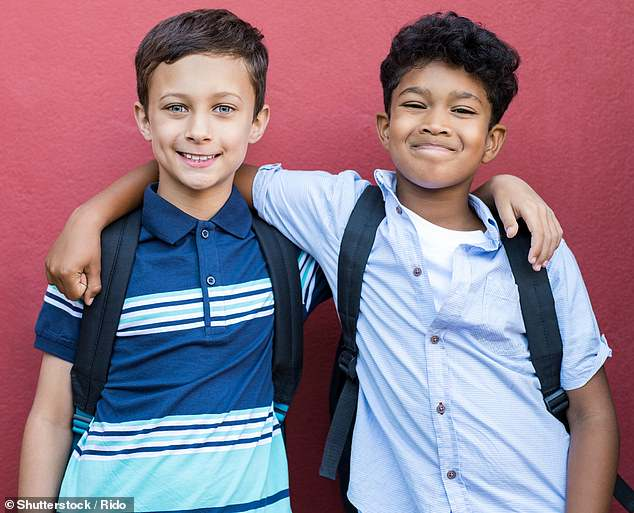bare: (146, 118, 249, 190), (389, 115, 483, 188)
